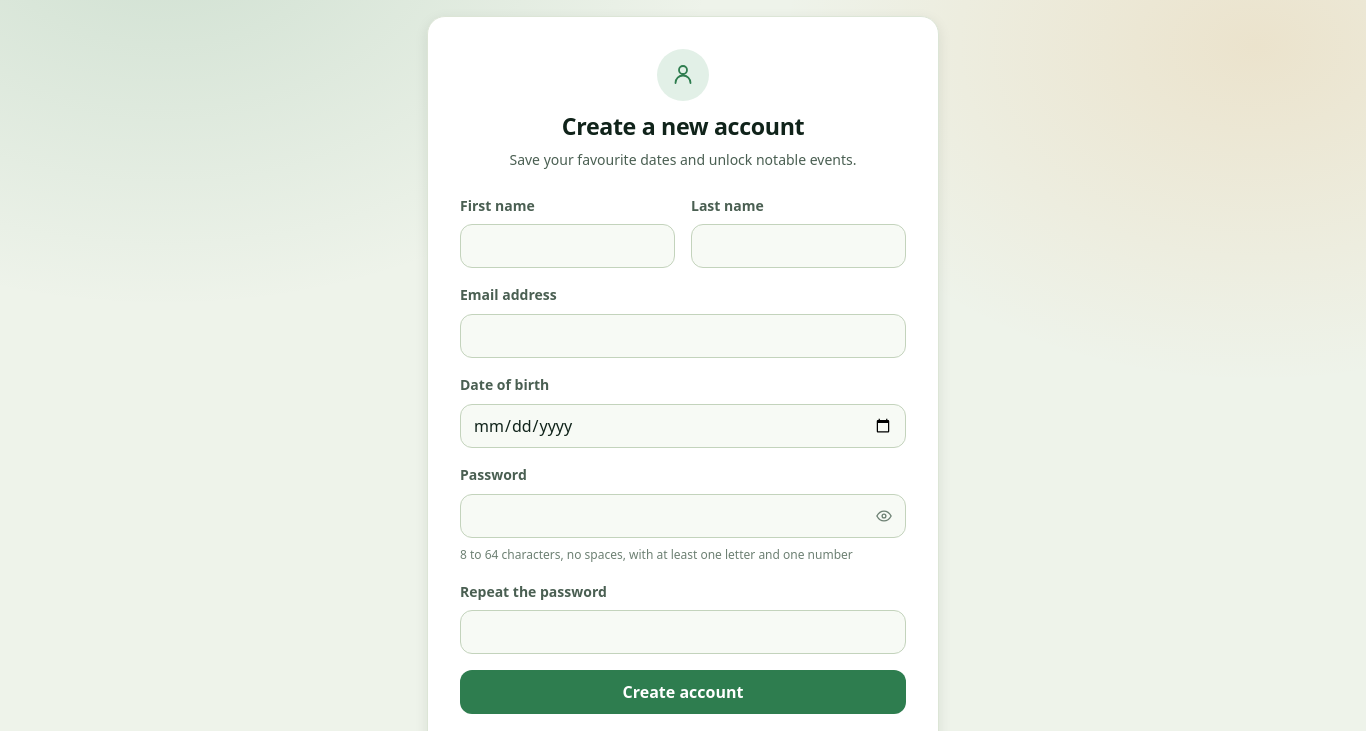
Test: RegistroComponent › al pulsar «Entendido» va a la fecha VAU
In the field labelled "First name": (568, 246) [460,224,675,268], type "Carlos"
In the field labelled "Last name": (798, 246) [691,224,906,268], type "Casado"
In the field labelled "Email address": (683, 336) [460,314,906,358], type "carlos@vau.com"
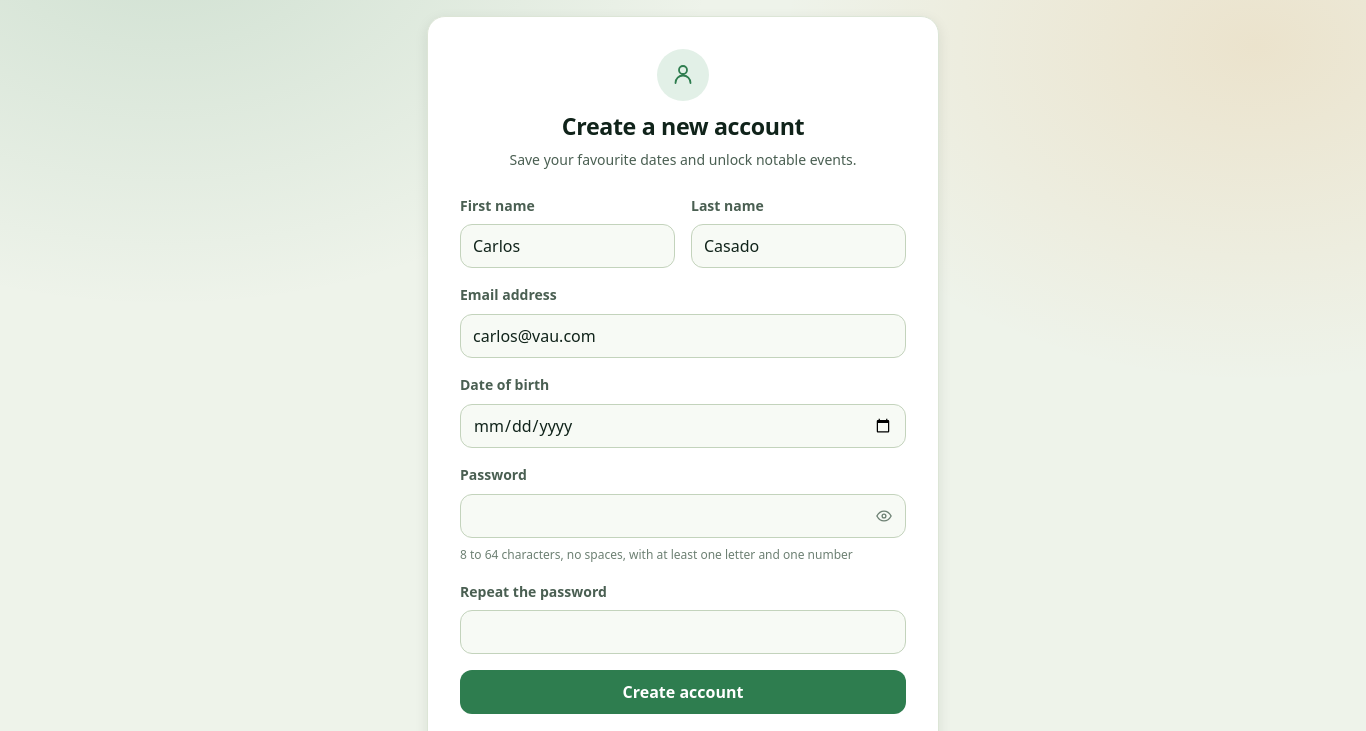
In the date field labelled "Date of birth": (683, 426) [460,404,906,448], type "1993-05-10"
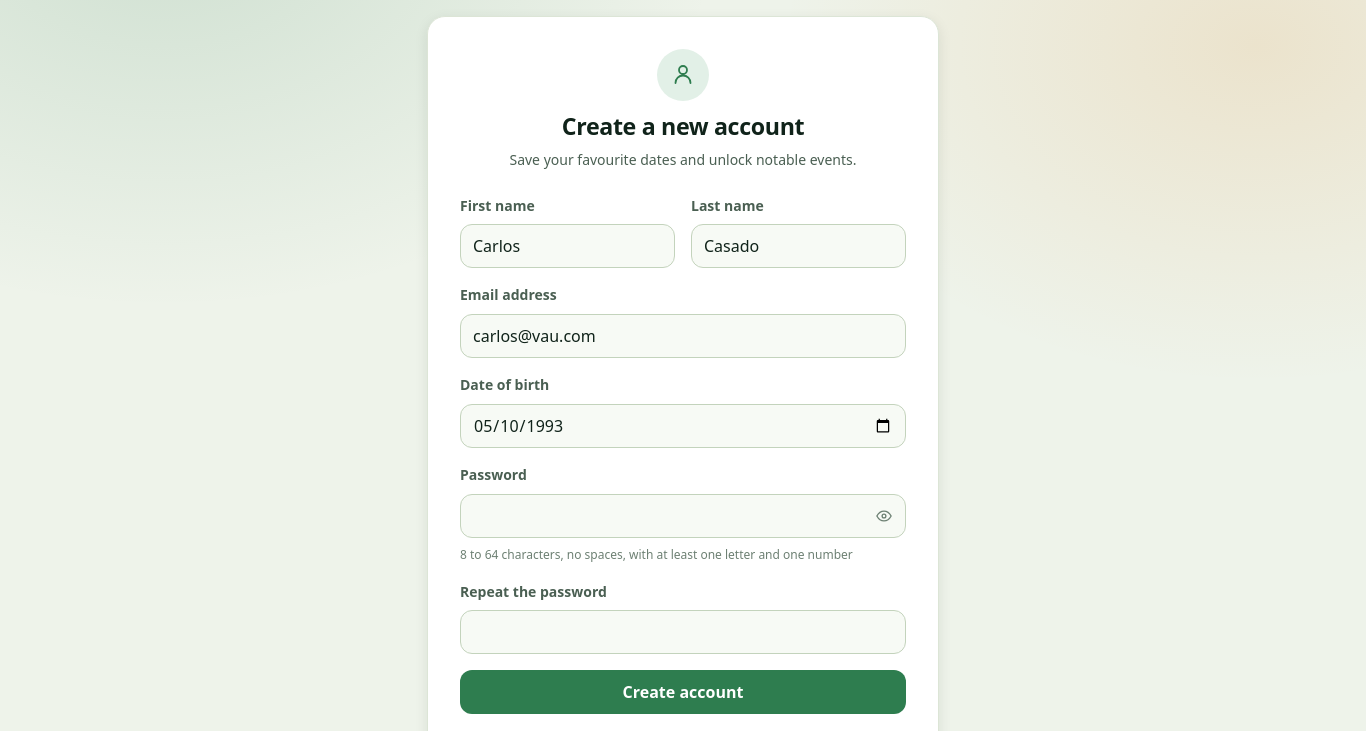
In the password field labelled "Password": (683, 516) [460,494,906,538], type "secreta123"
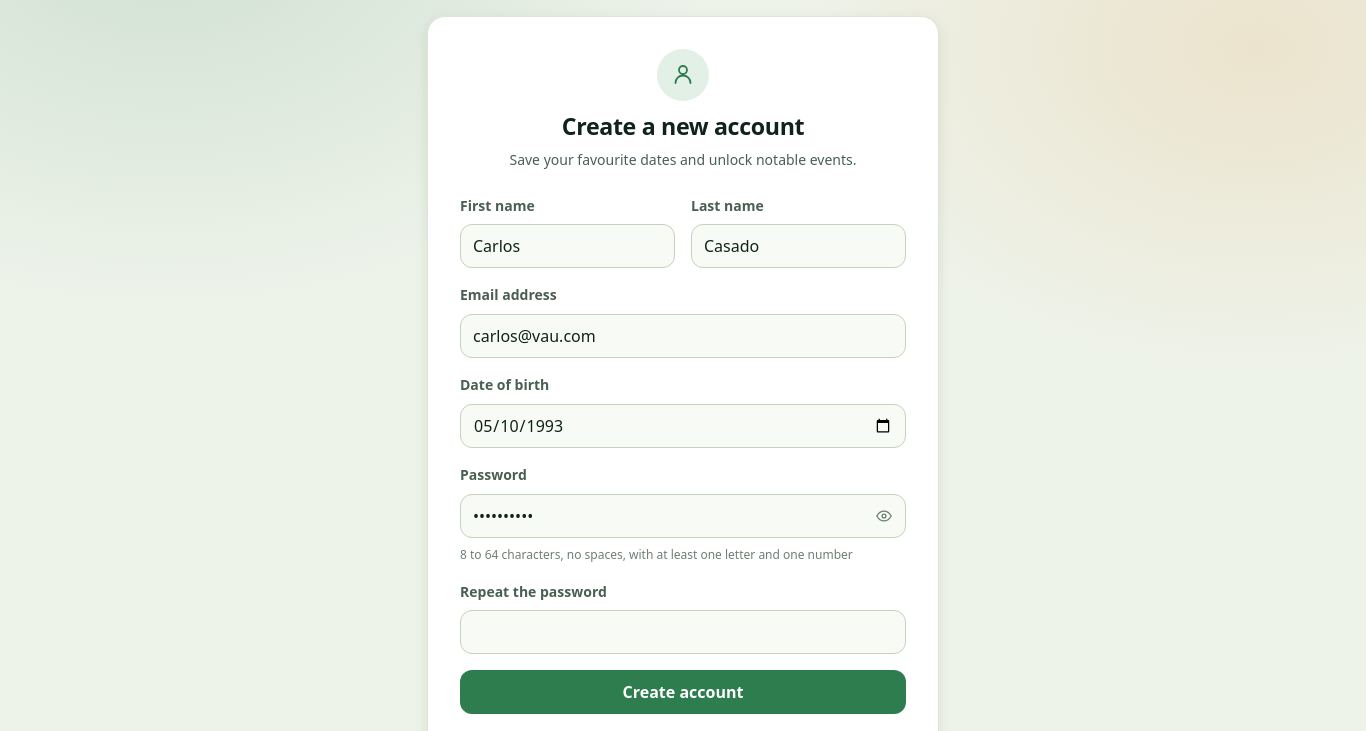
In the password field labelled "Repeat the password": (683, 632) [460,610,906,654], type "secreta123"
(page scrolled)
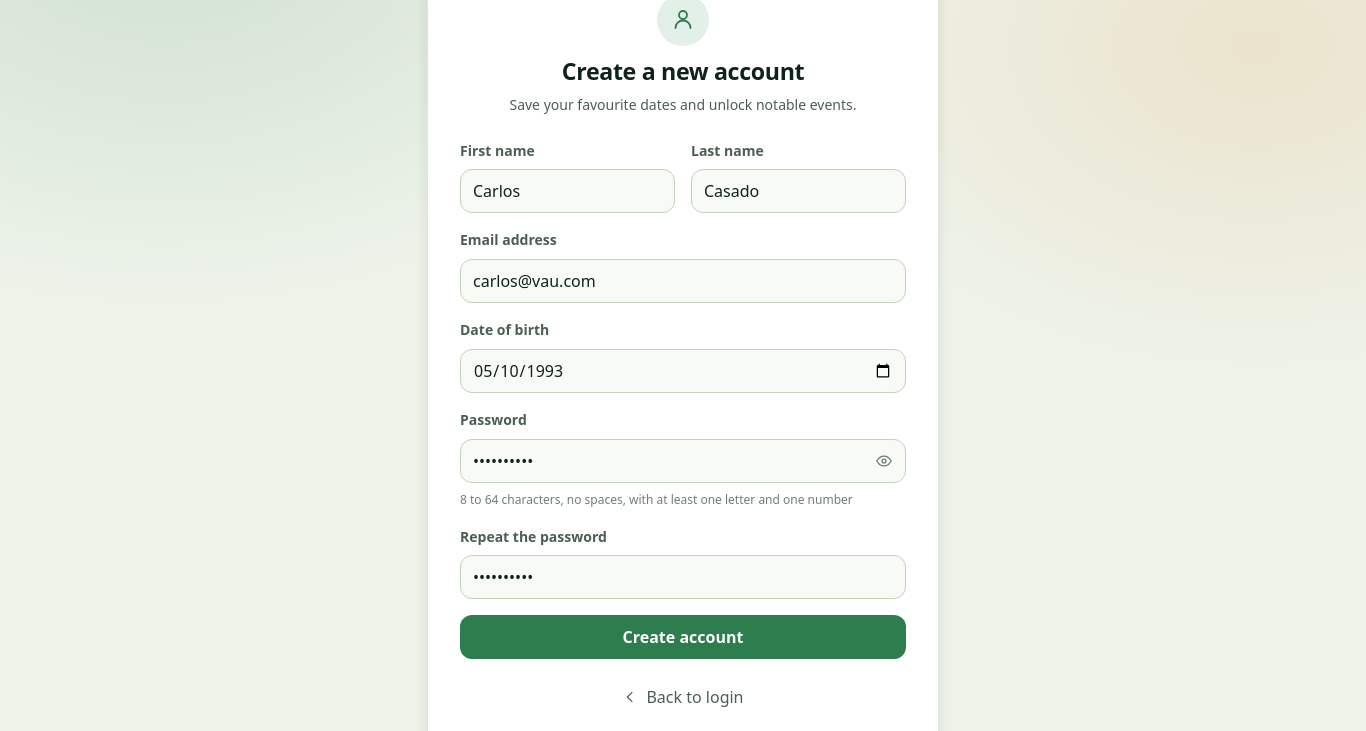
Submit the form, box [460,140,906,719]
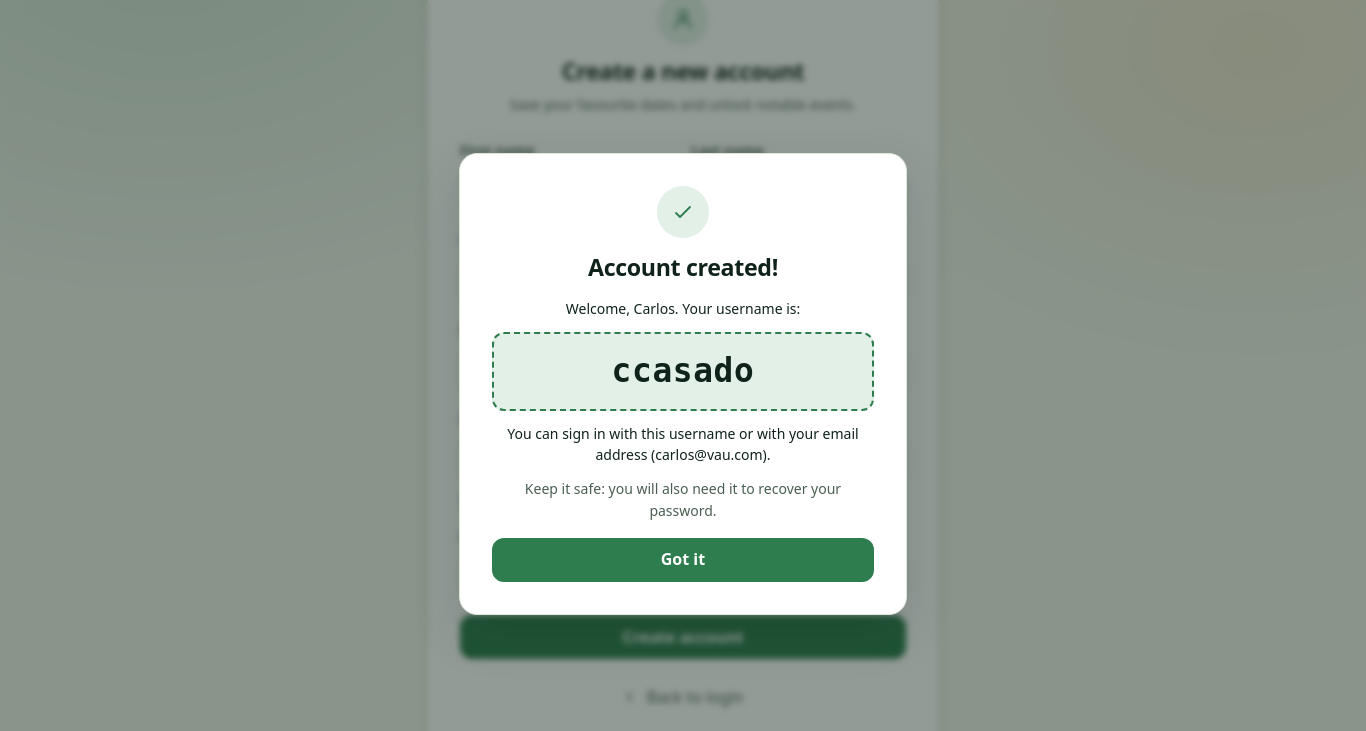
Click the button "Got it": (683, 560) [492,538,874,582]
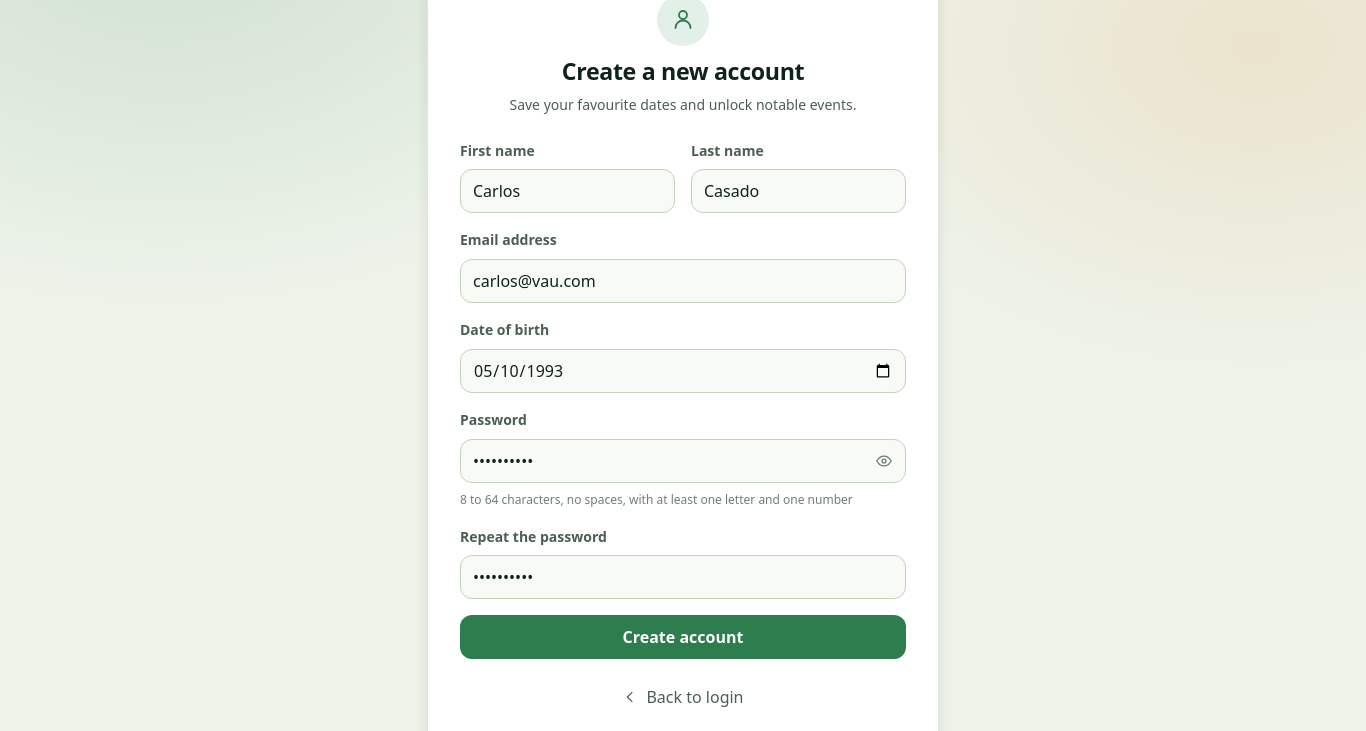
expect the dialog is gone: met
